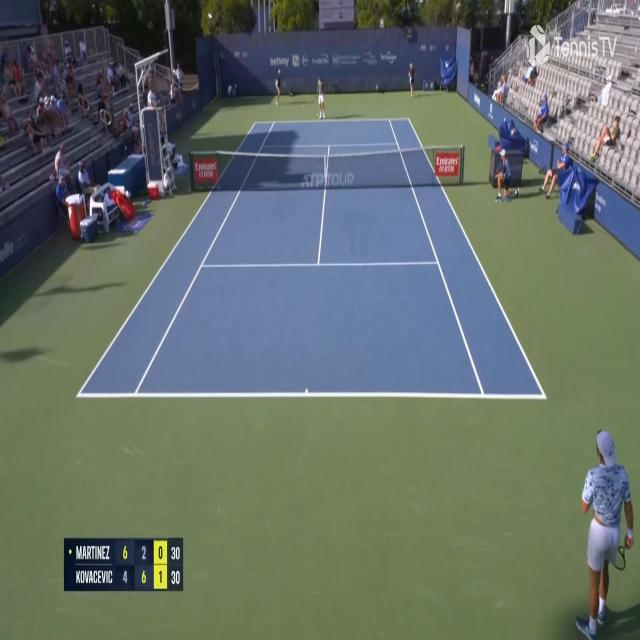tennis-player: (580, 424, 636, 637), (315, 74, 327, 122)
